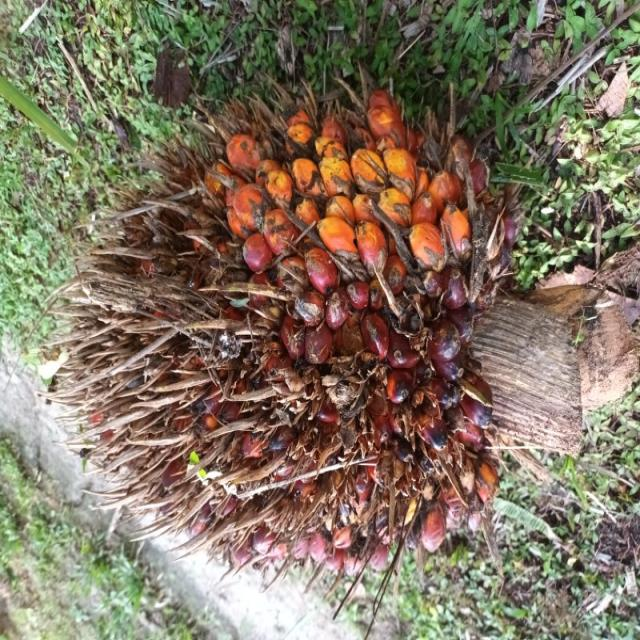fraksi 3: (111, 46, 555, 573)
